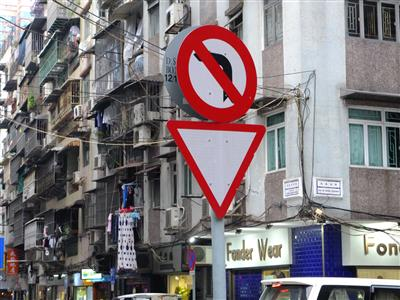noLeftTurn: (173, 22, 260, 124)
yield: (164, 114, 272, 222)
